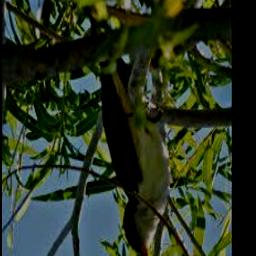Cuckoo: (78, 0, 170, 256)
